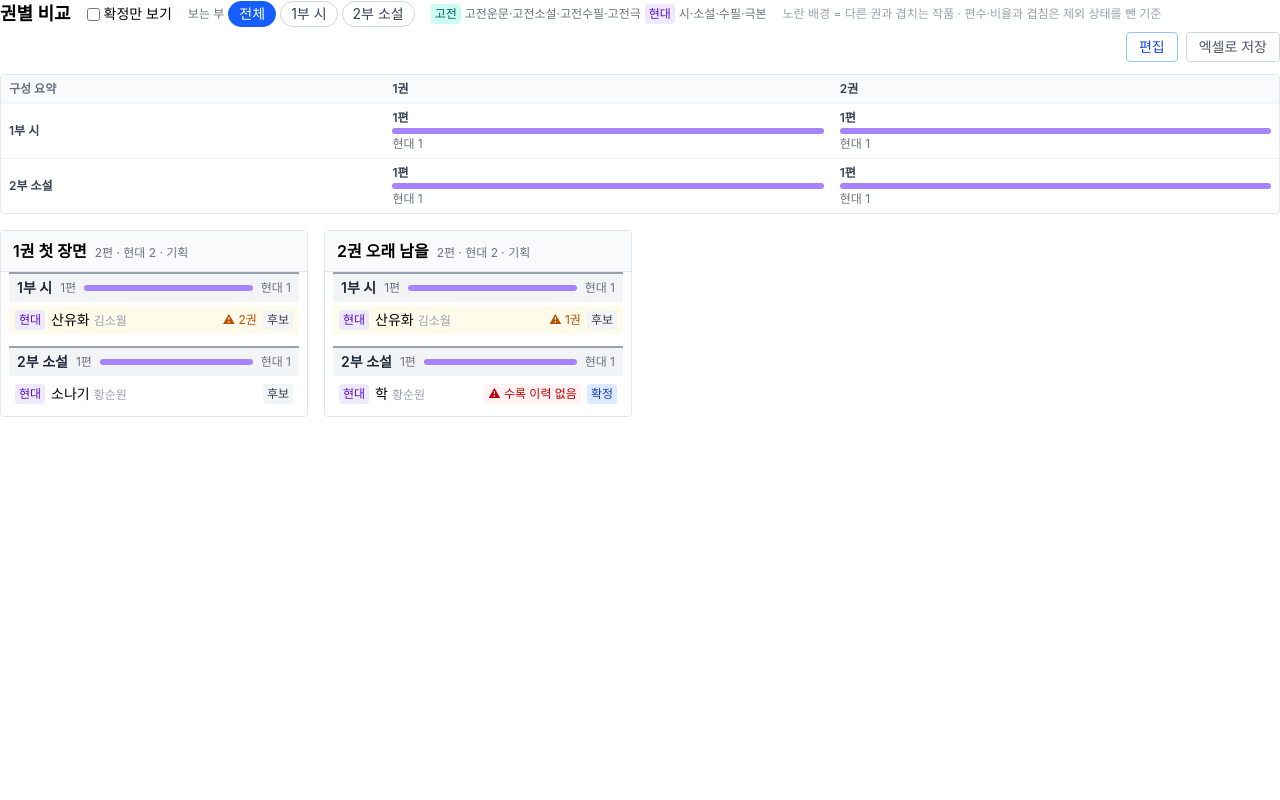
Test: 저장 직전 다시 읽기에 실패하면 편집을 유지한다
The image size is (1280, 800).
Click the button "편집" at {"x": 1152, "y": 47}, box top-left (1126, 32), bottom-right (1178, 62)
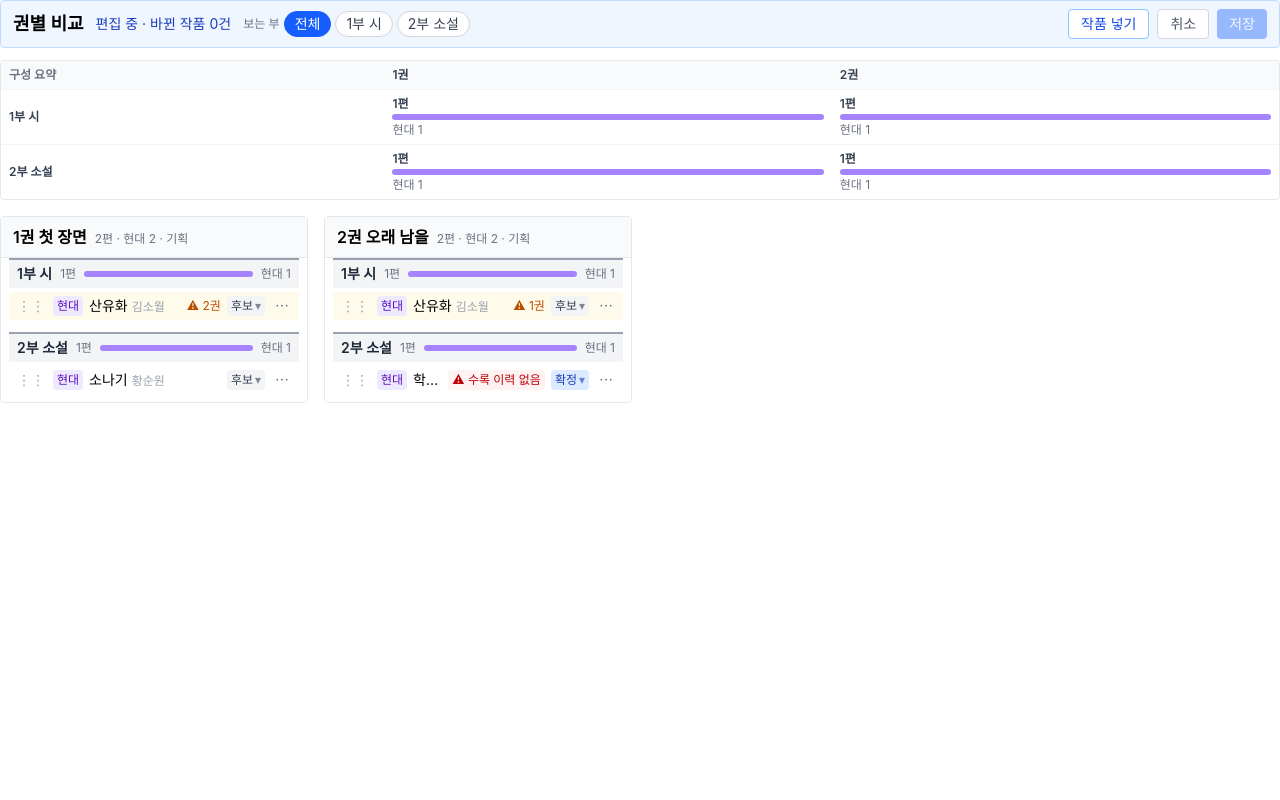
Expected: the text "편집 중 · 바뀐 작품 0건" is shown, top-left (96, 14), bottom-right (231, 34)
Click the button named "「소나기」 메뉴" at {"x": 282, "y": 380}, box top-left (271, 370), bottom-right (293, 390)
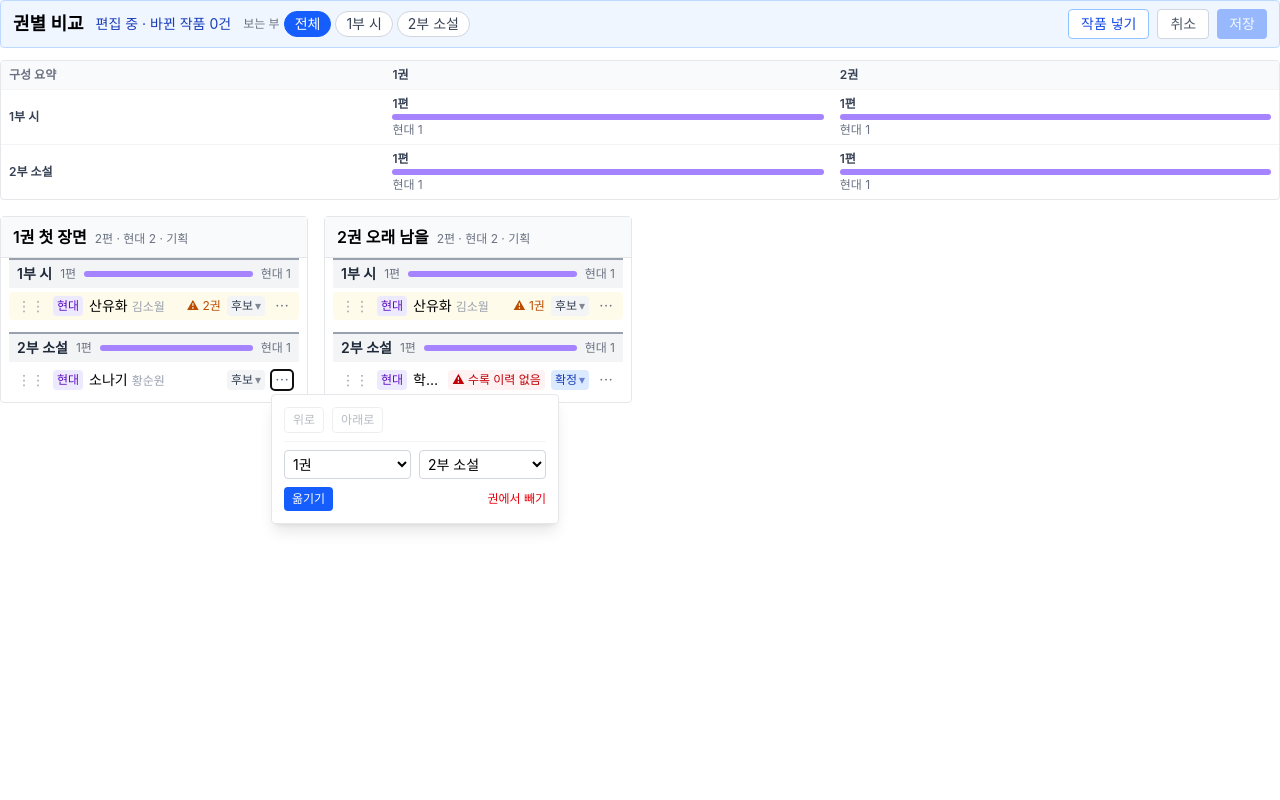
Click the button "권에서 빼기" at {"x": 517, "y": 499}, box top-left (487, 491), bottom-right (546, 507)
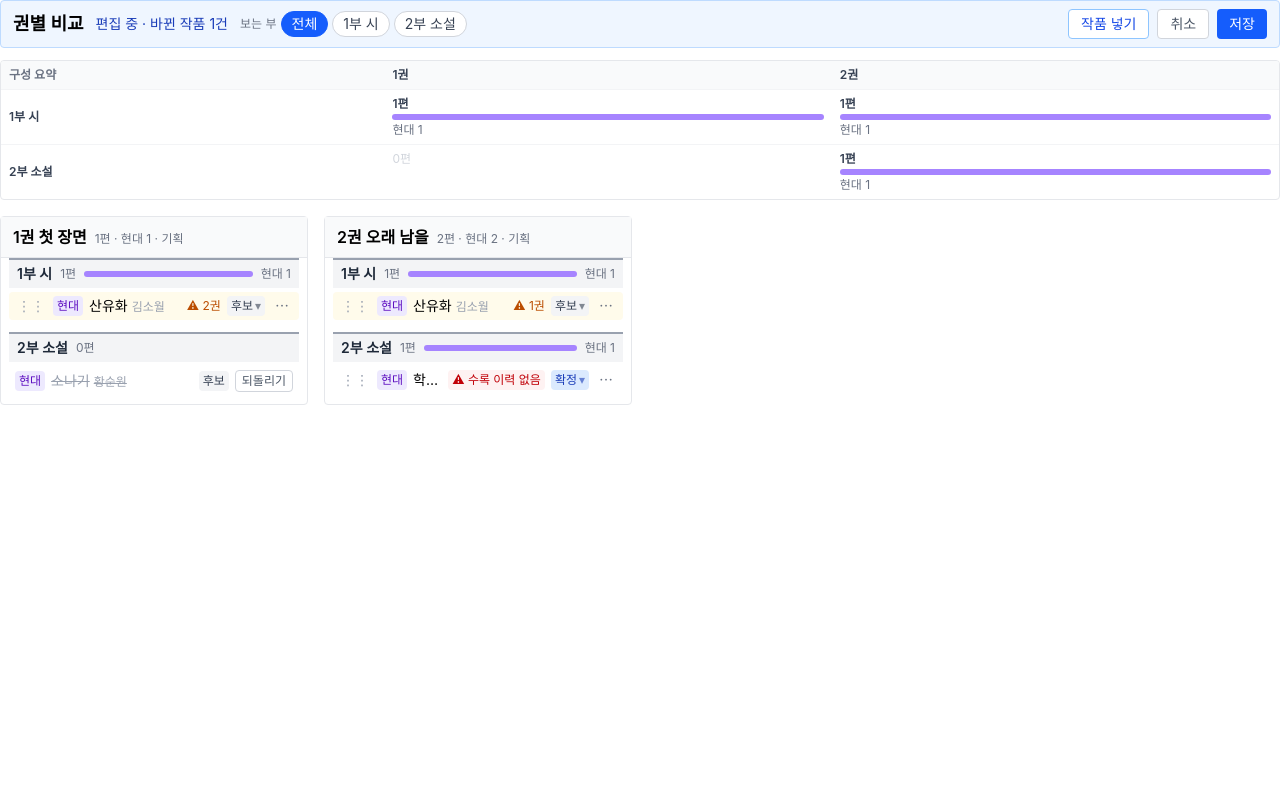
Click the button "저장" at {"x": 1242, "y": 24}, box top-left (1217, 9), bottom-right (1267, 39)
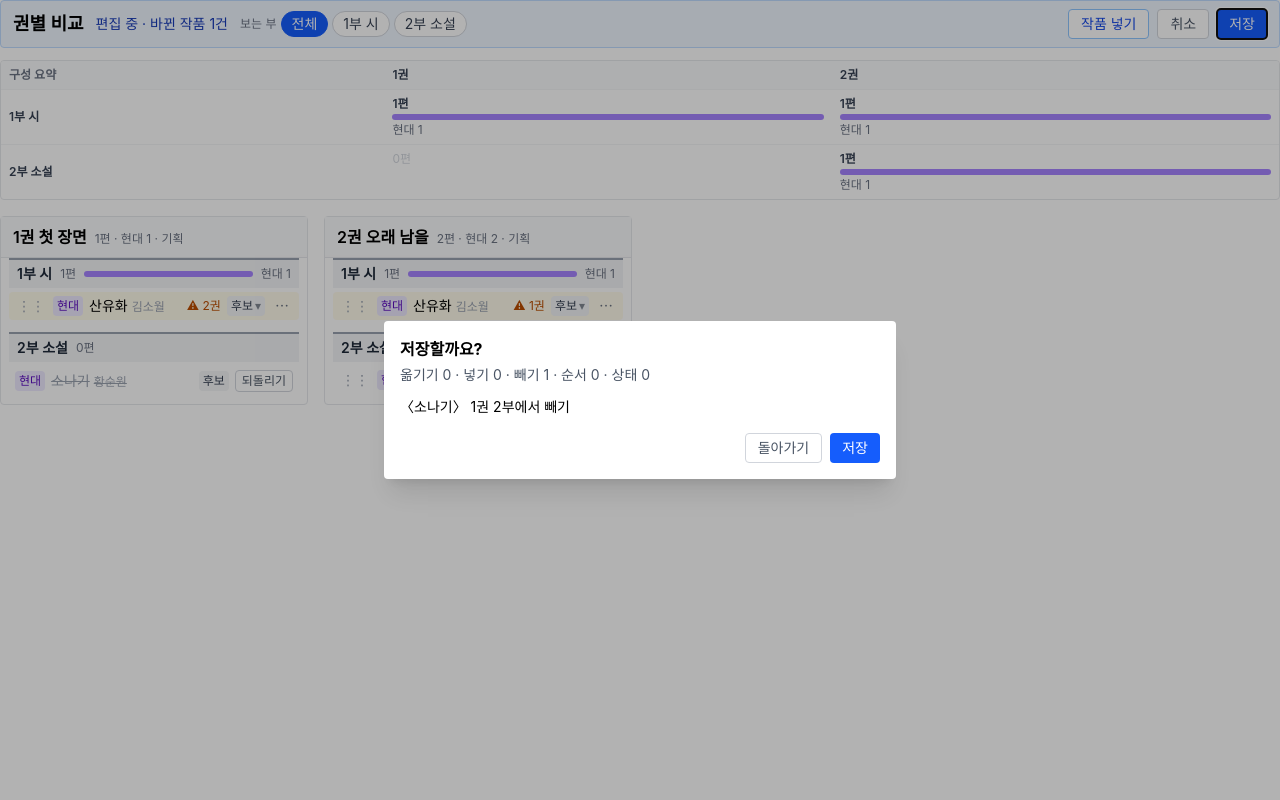
Expected: the button "저장" is enabled
Click the button "저장" at {"x": 855, "y": 448}, box top-left (830, 433), bottom-right (880, 463)
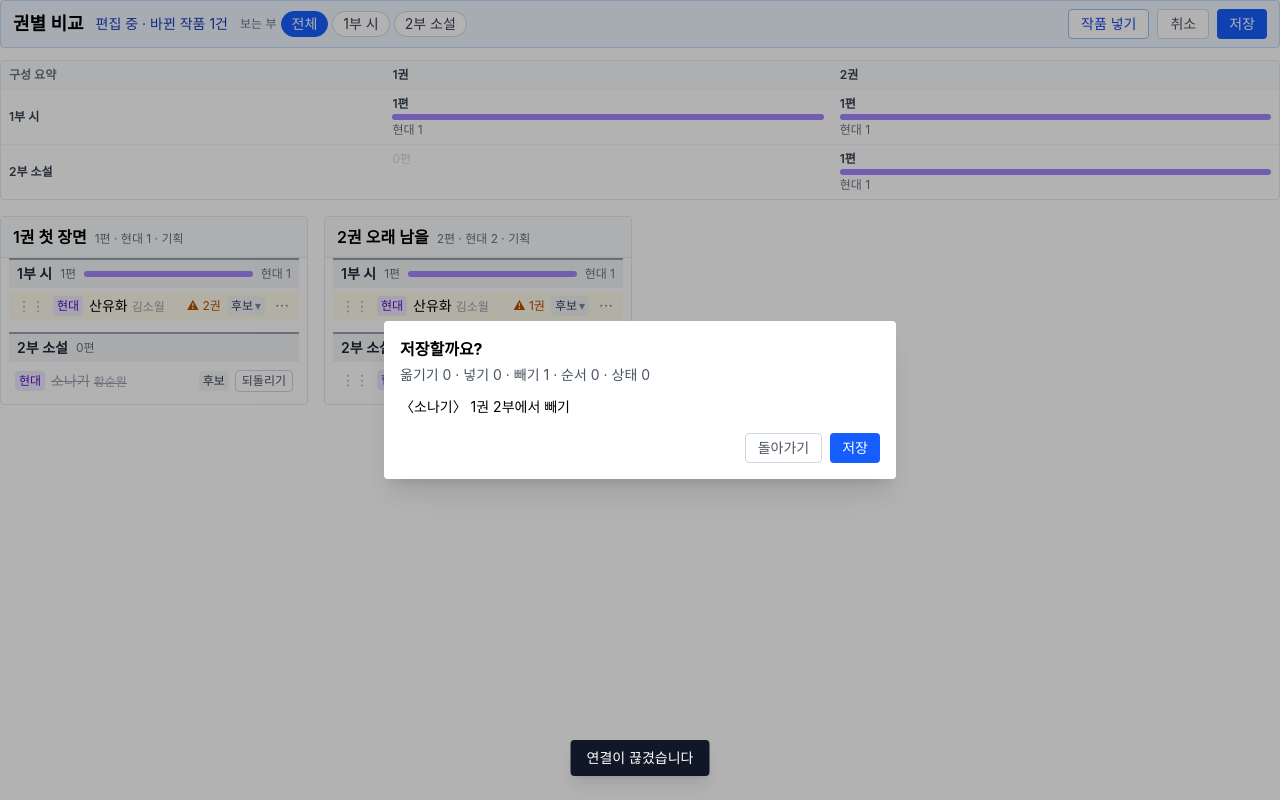
Expected: the text "편집 중 · 바뀐 작품 1건" is shown, top-left (96, 14), bottom-right (228, 34)
Expected: the text "연결이 끊겼습니다" is shown, top-left (570, 740), bottom-right (710, 776)
